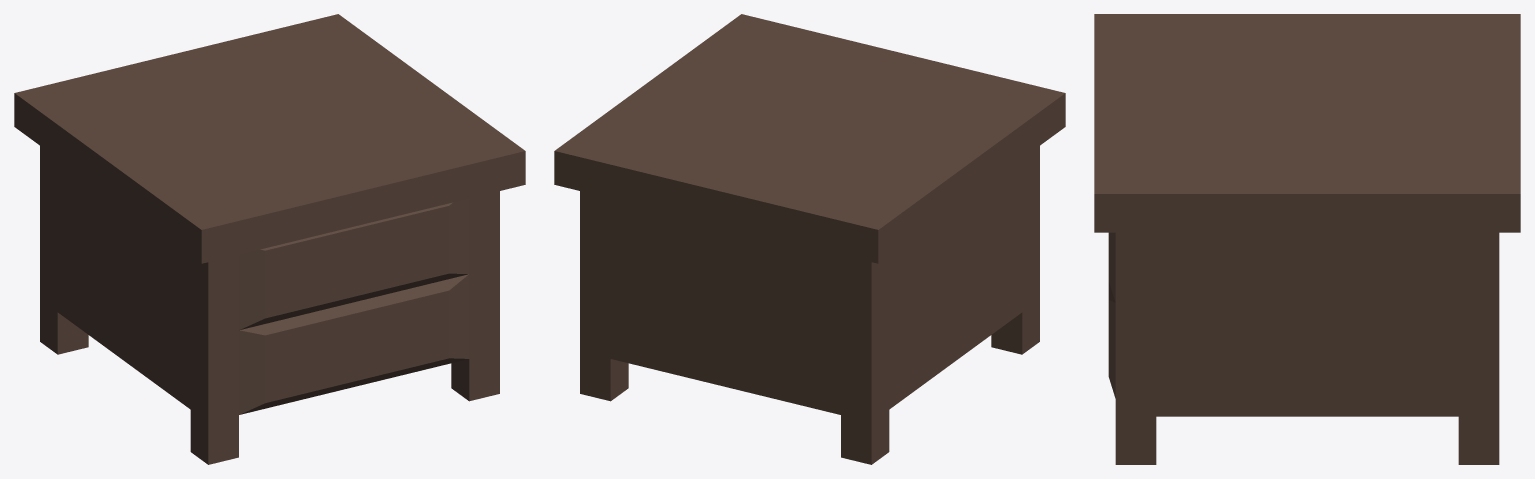
The model's file is NightStand.fbx.
3 renders of one model, left to right at view 1: azimuth 30°, elevation 25°; view 2: azimuth 150°, elevation 25°; view 3: azimuth 270°, elevation 25°, orthographic. The views are drawn at different scales.
Parts seen in each view (by area): view 1: Cube; view 2: Cube; view 3: Cube.
Part boxes in pixels (x1=…): Cube: x1=14, y1=14, x2=525, y2=464; Cube: x1=554, y1=14, x2=1065, y2=464; Cube: x1=1094, y1=14, x2=1520, y2=464.
Bounding box in the file's own units: 400 × 290 × 400.
